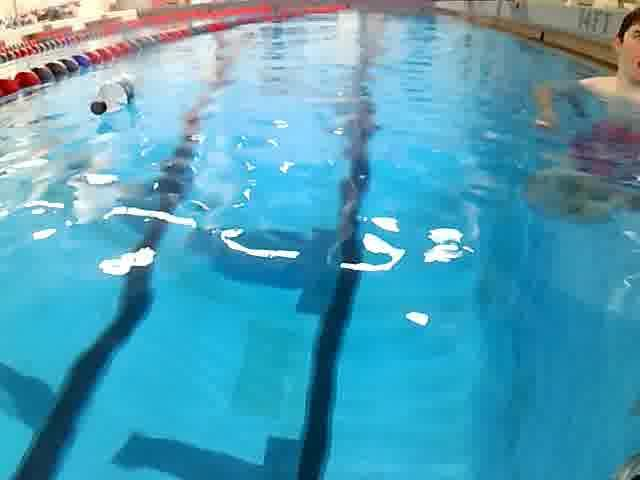Bottle: (86, 73, 142, 121)
